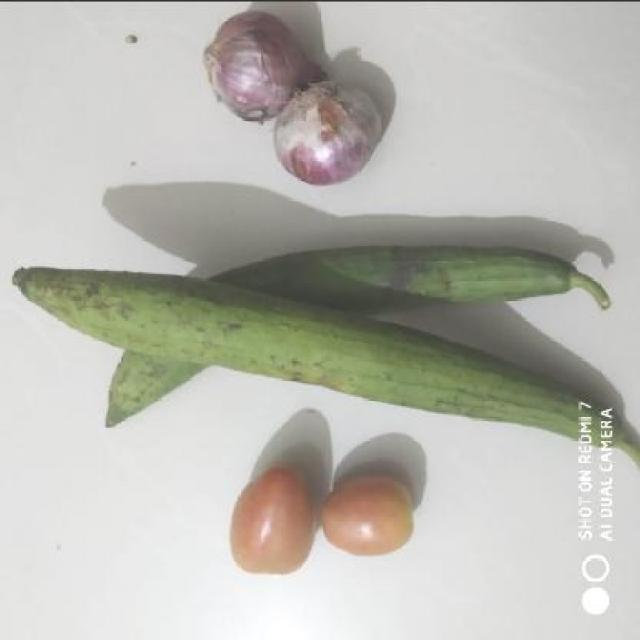Onion: (200, 12, 337, 120), (272, 80, 388, 188)
Sponge Gourd: (15, 235, 640, 450)
Tomato: (230, 446, 318, 585), (312, 463, 420, 562)
